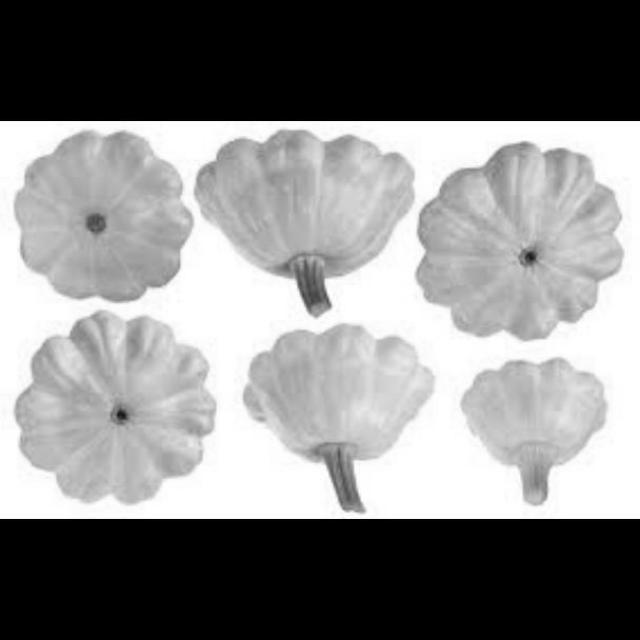squash: (411, 145, 623, 350), (192, 130, 419, 318), (15, 311, 223, 508), (241, 317, 444, 504), (7, 133, 191, 305), (450, 346, 615, 507)
